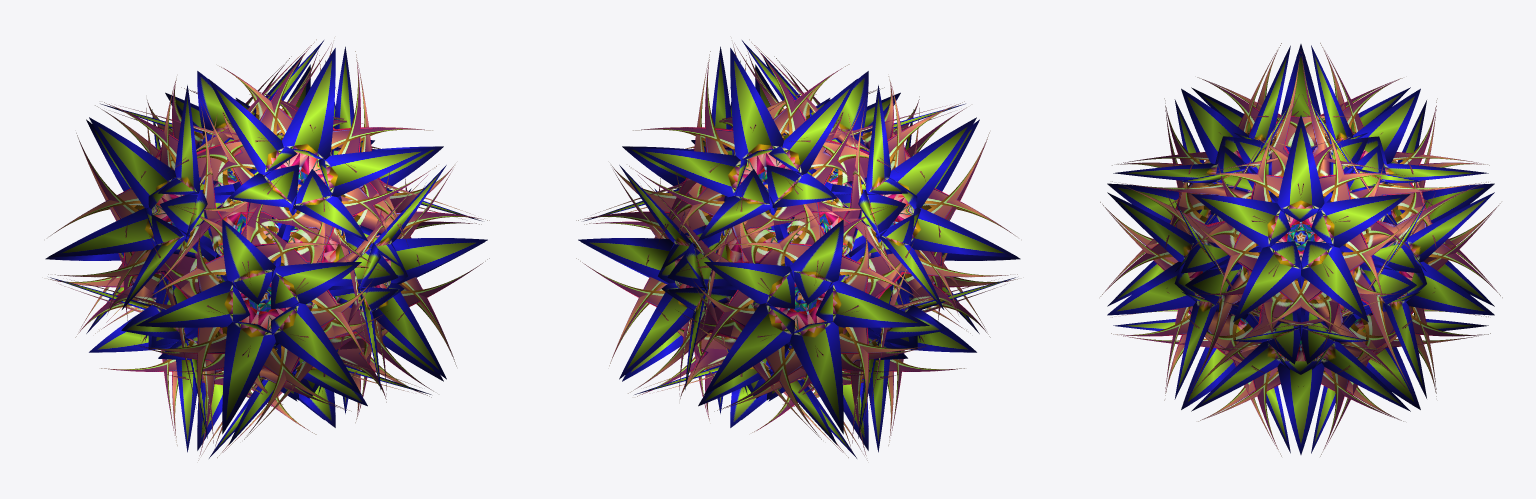
File: 1GreatRhombicTriacontahedron.gltf
3 views of the same model, side by side, from view 1: azimuth 30°, elevation 25°; view 2: azimuth 150°, elevation 25°; view 3: azimuth 270°, elevation 25° (orthographic). The views are drawn at different scales.
Visible parts, largest first — view 1: GreatRhombicTriacontahedron9; view 2: GreatRhombicTriacontahedron9; view 3: GreatRhombicTriacontahedron9.
Boxes of the visible parts, x1,y1,x2,y2 form: GreatRhombicTriacontahedron9: (45,39,489,460); GreatRhombicTriacontahedron9: (576,39,1020,460); GreatRhombicTriacontahedron9: (1100,43,1502,456).
Size of the model in its own units: 1.12 by 1.12 by 1.12.
1 material, 1 textured.
